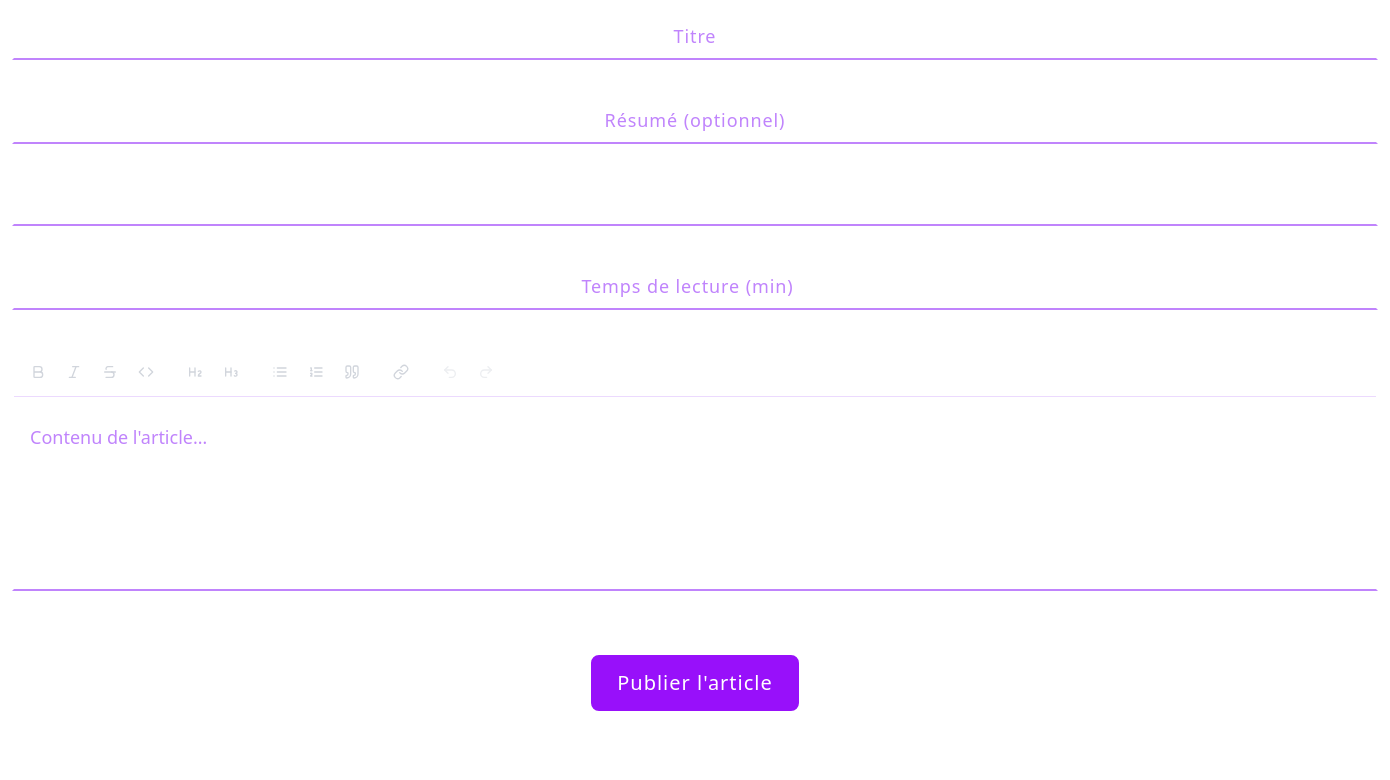
Test: ArticleForm — création › affiche une erreur sur les champs requis lors d'une soumission vide
Click the button "Publier l'article" at (695,683), box [591,655,799,711]
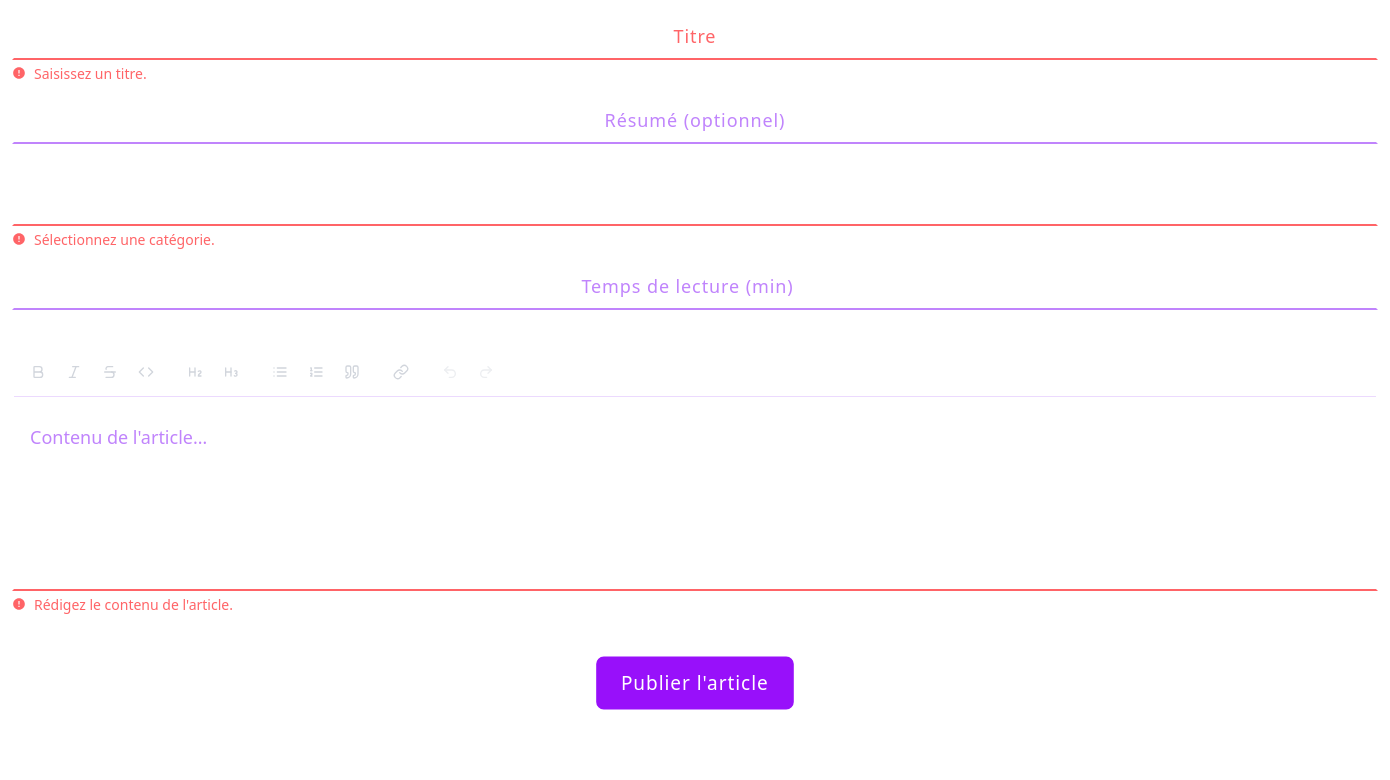
Result: the text "Saisissez un titre." is shown at [34,64,147,84]
Result: the text "Rédigez le contenu de l'article." is shown at [34,595,233,615]
Result: the text "Sélectionnez une catégorie." is shown at [34,230,215,250]
